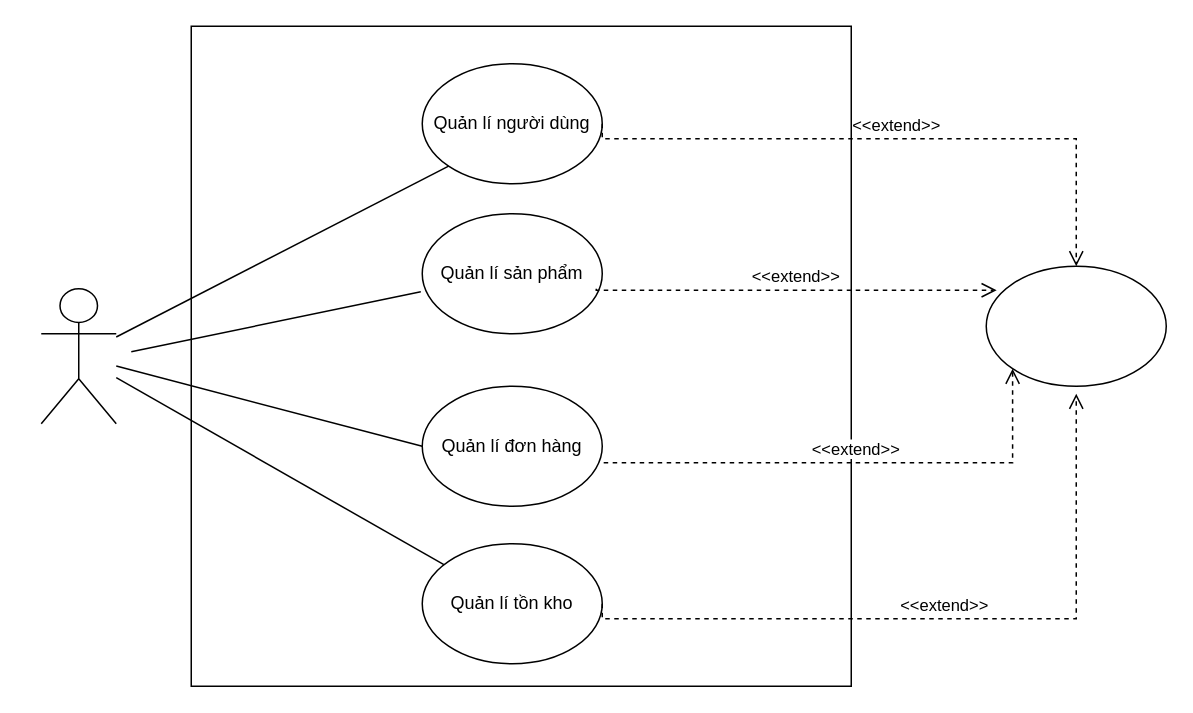
Image size: 1193x713. Some labels were removed from this diagram. The centre of each missing label's shape, as x and y in pixels:
Quán trị viên: the point at 78,355
Đăng nhập hệ thống: the point at 1075,325
